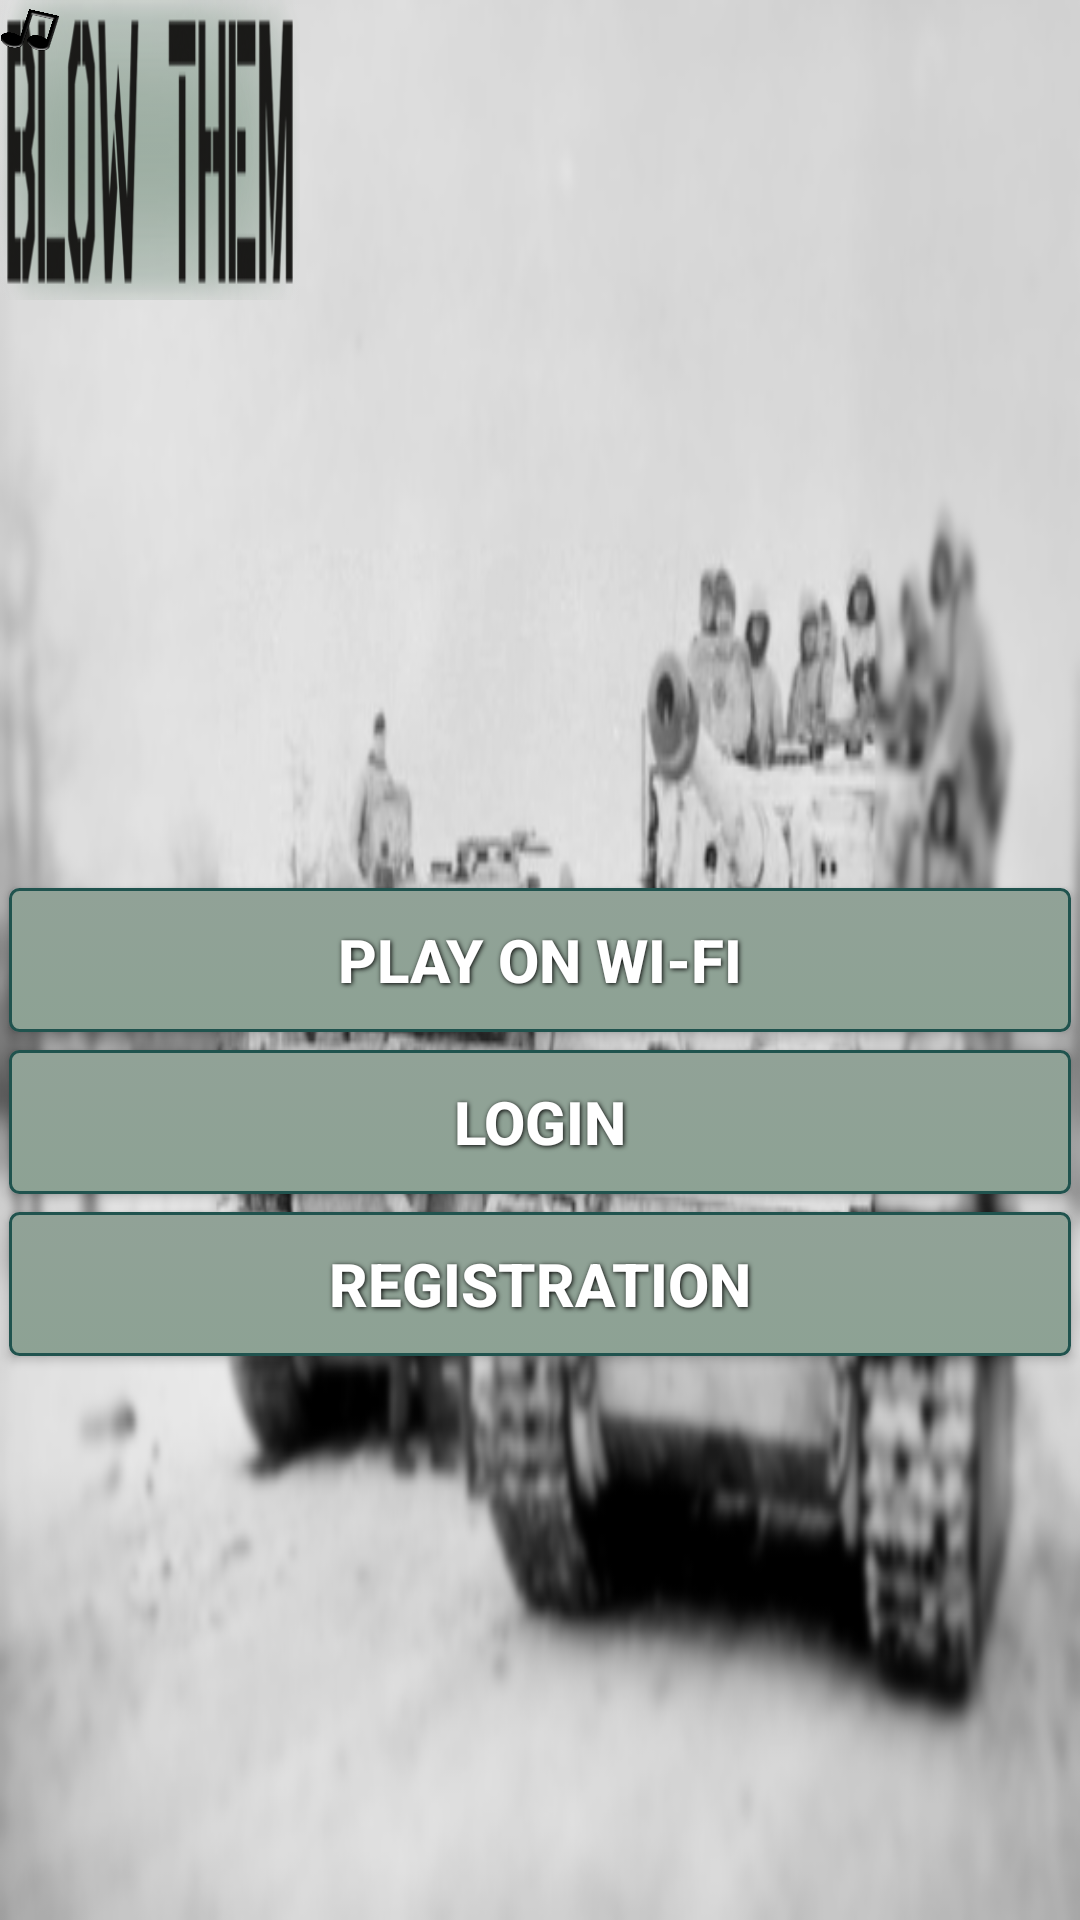

Icons on this 1080*1920 Android screen, each with its box as region(x1, y1, x2, y2):
music: region(0, 0, 60, 60)
